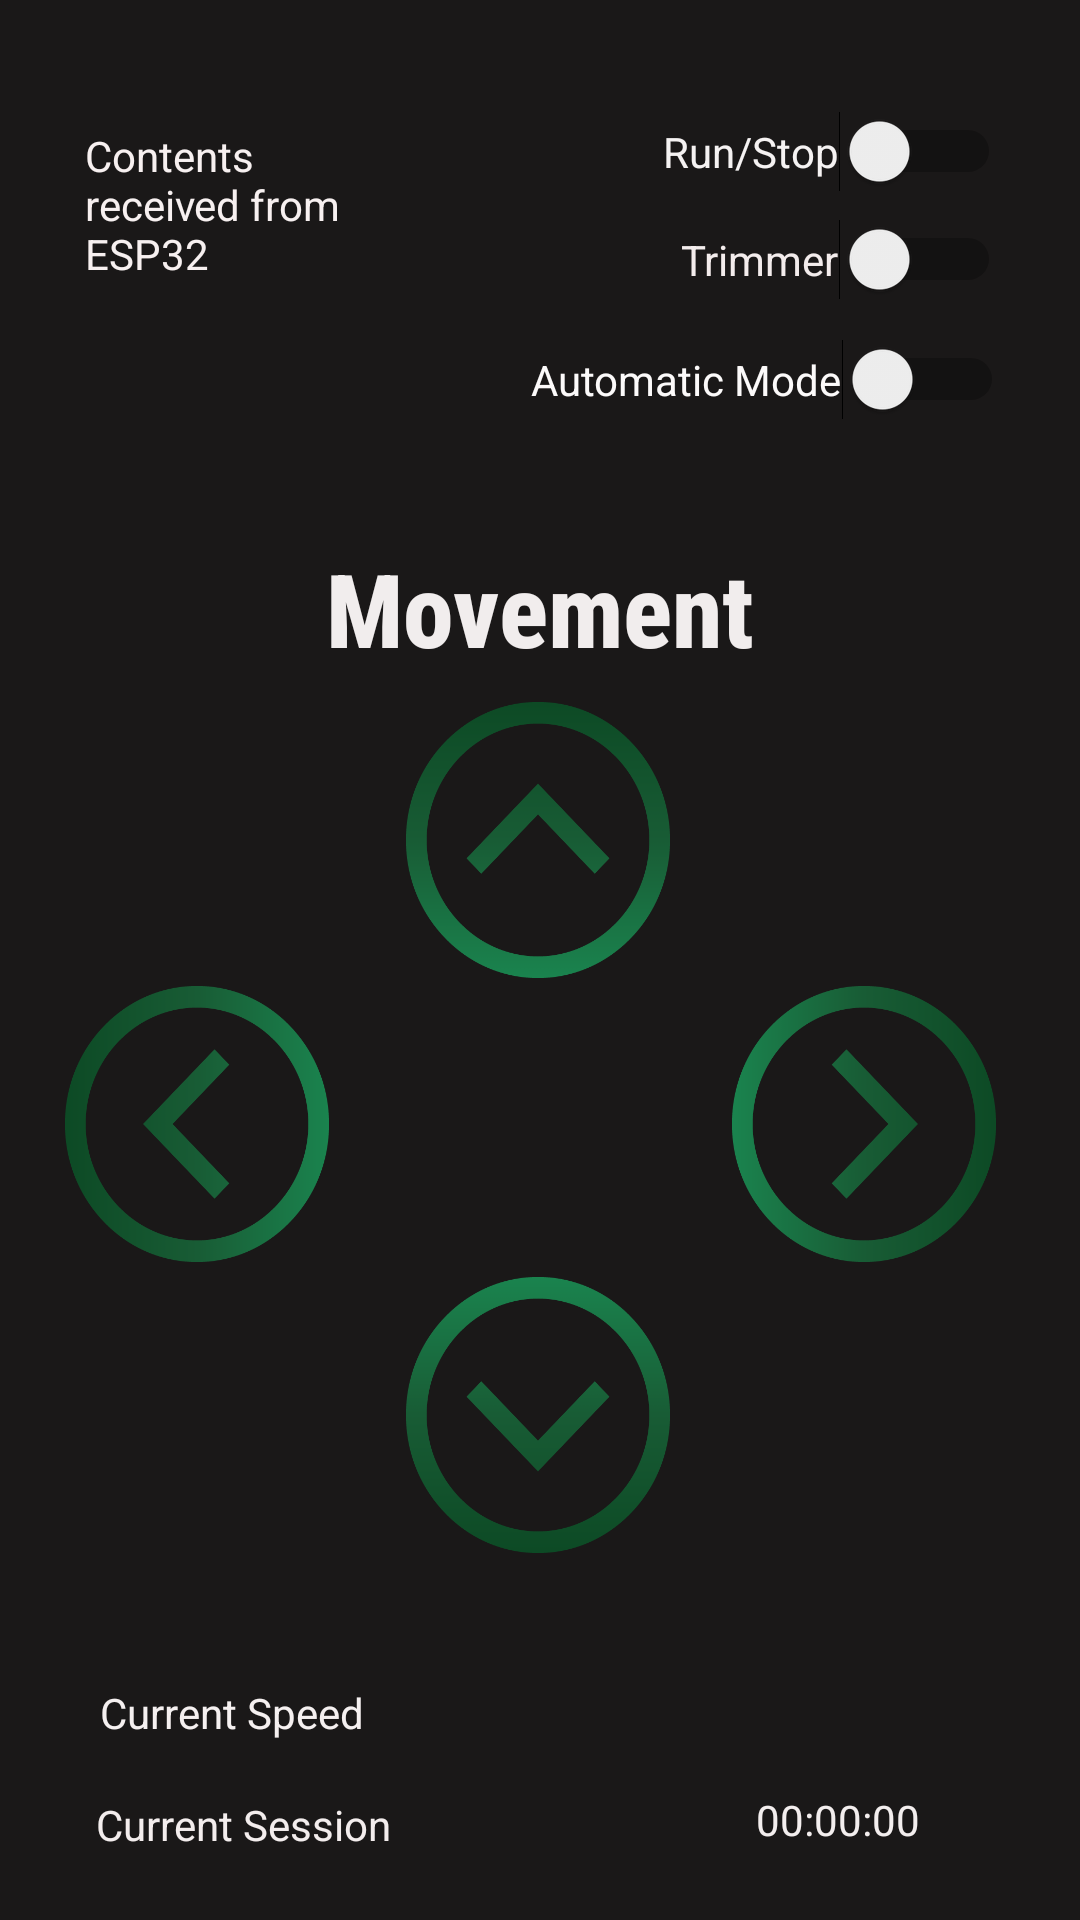

Point at icon controls on the screen. Image size 1080×1920, points as point (x, y).
arrowdown: point (538, 1415)
arrowleft: point (197, 1124)
arrowright: point (864, 1124)
arrowup: point (538, 840)
